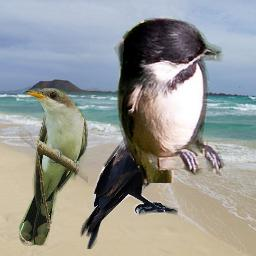Crow: (80, 72, 178, 249)
Cuckoo: (19, 88, 88, 246)
Swallow: (114, 13, 228, 183)
